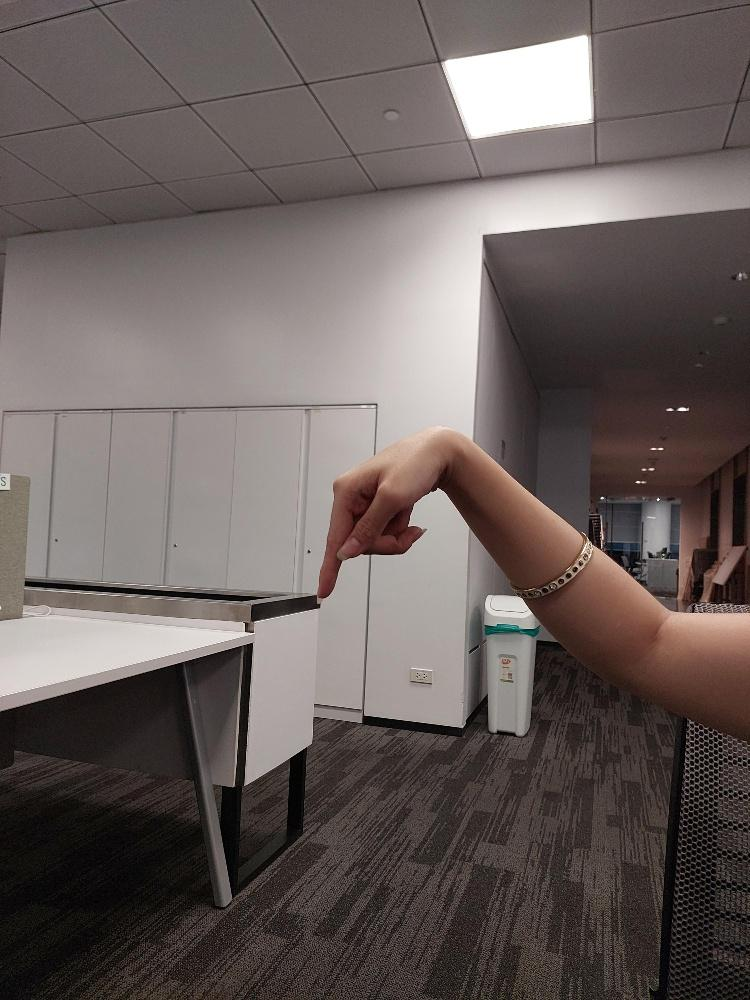p: (311, 424, 456, 600)
